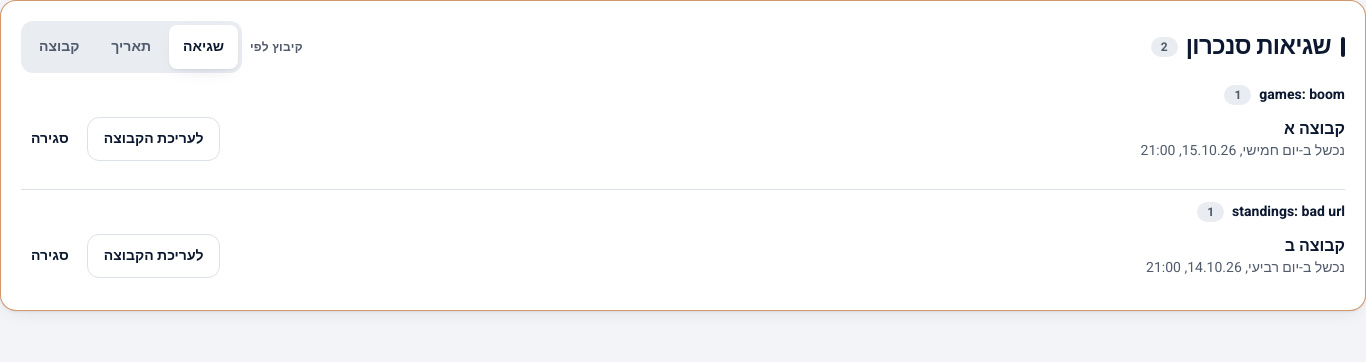
SyncFailures › keeps the row and shows an error when dismiss fails
Step 1. Click the button with aria-label "סגירת ההתראה של קבוצה א" → (50, 139), box [21,117,79,161]
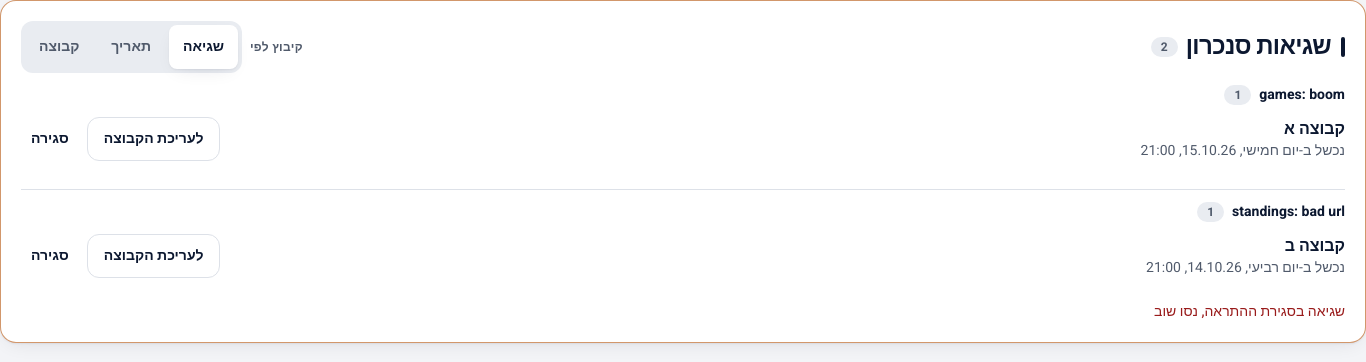
Expected: the text "קבוצה א" is shown, [1284,117,1345,141]
Result: the message "שגיאה בסגירת ההתראה, נסו שוב" is shown at [1154,301,1345,322]
